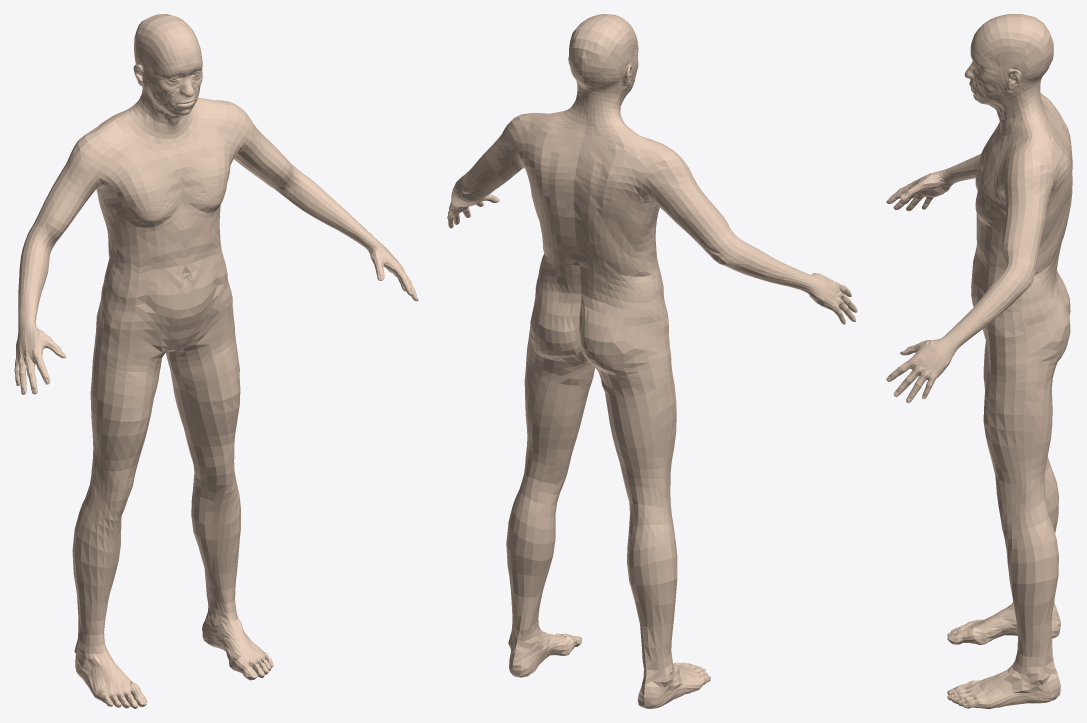
Rendered from male-older-average-strong.glb.
3 views of the same model, side by side, from view 1: azimuth 30°, elevation 25°; view 2: azimuth 150°, elevation 25°; view 3: azimuth 270°, elevation 25° (orthographic).
Parts seen in each view (by area): view 1: world; view 2: world; view 3: world.
Boxes of the visible parts, <box> form: world: <box>14,14,418,708</box>; world: <box>447,14,857,708</box>; world: <box>886,14,1072,708</box>.
Bounding box in the file's own units: 1.22 × 1.93 × 0.4984.
